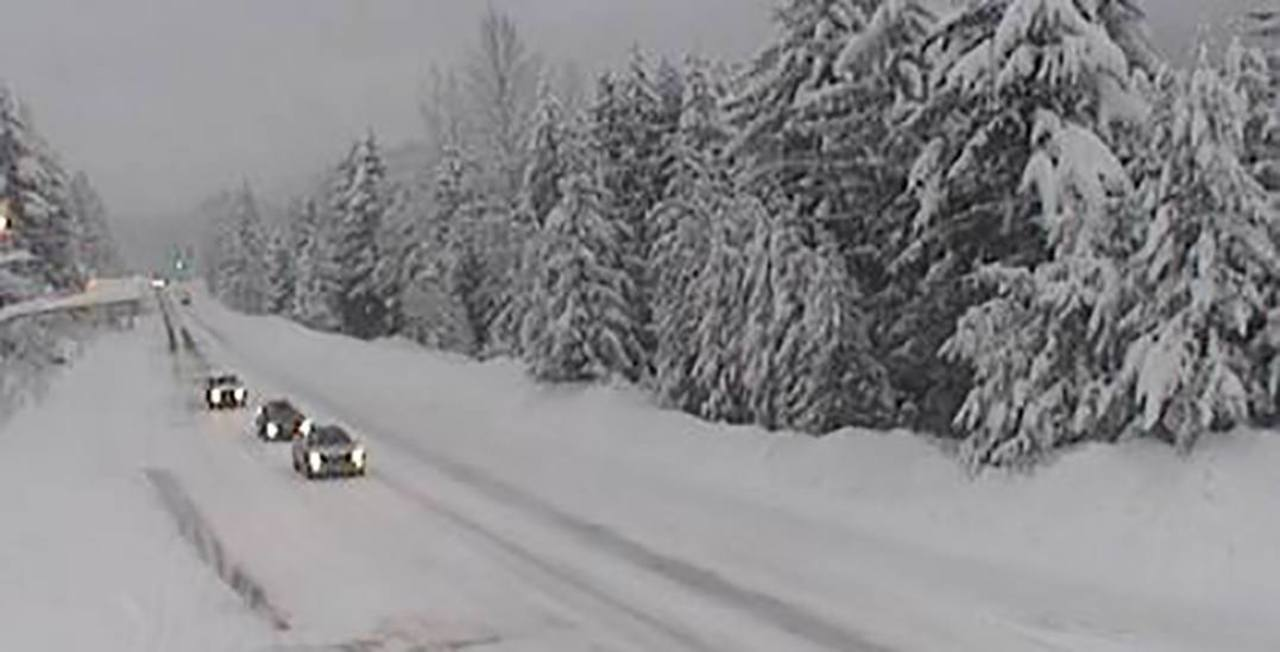car: (291, 423, 369, 479), (253, 401, 307, 442), (206, 364, 249, 410)
